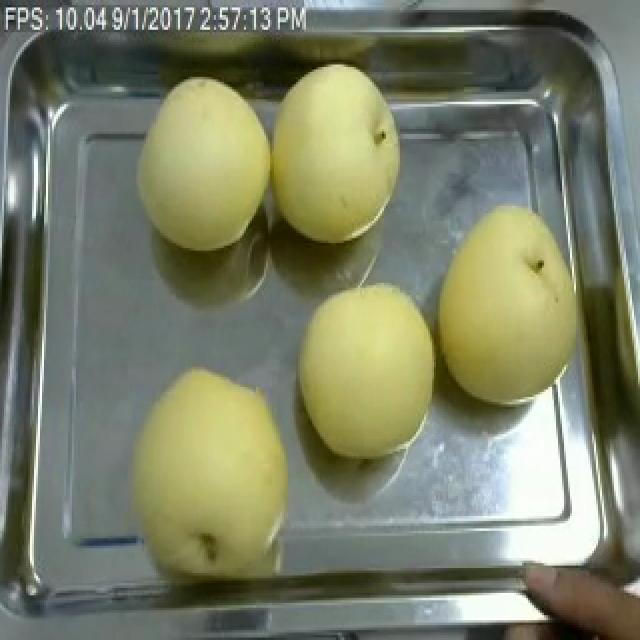Fruit: (116, 355, 300, 588), (424, 191, 594, 417), (286, 270, 448, 469), (264, 52, 414, 253), (126, 67, 278, 258)
